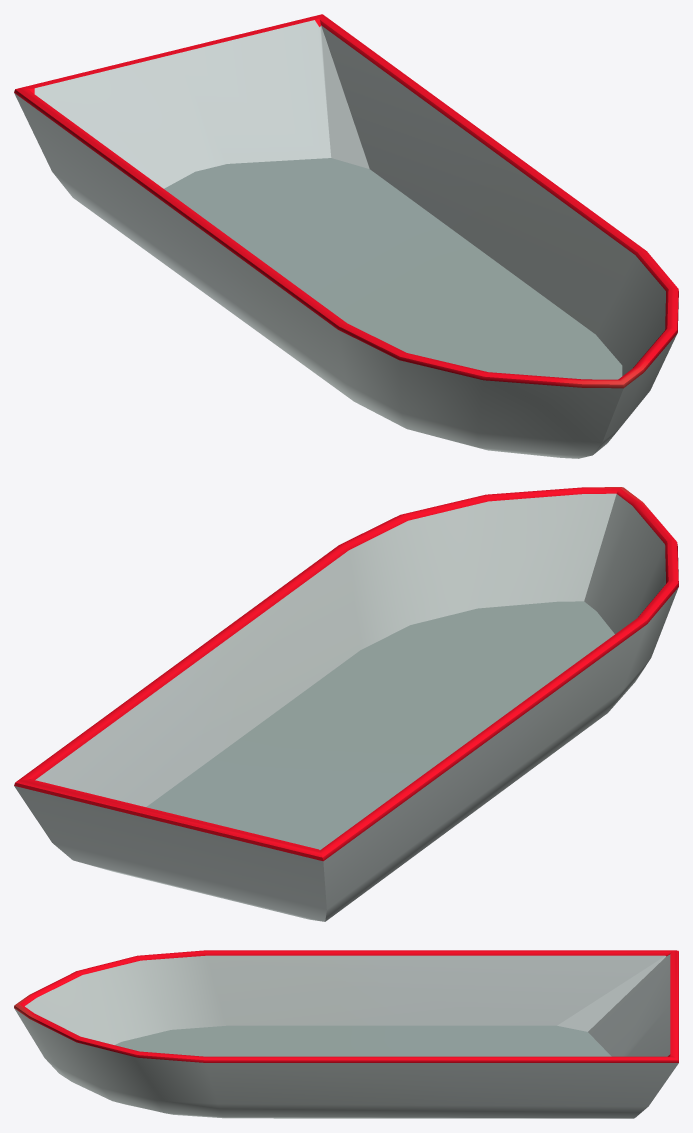
The model's file is boat.fbx.
3 renders of one model, top to bottom at view 1: azimuth 30°, elevation 25°; view 2: azimuth 150°, elevation 25°; view 3: azimuth 270°, elevation 25°, orthographic. The views are drawn at different scales.
Visible parts, largest first — view 1: boat; view 2: boat; view 3: boat.
Boxes of the visible parts, left/top/right/bottom form: boat: left=14, top=14, right=678, bottom=458; boat: left=14, top=487, right=678, bottom=921; boat: left=14, top=950, right=678, bottom=1118.
Size of the model in its own units: 5.59 by 1.97 by 14.24.
Materials: 1 (1 with a texture image).
